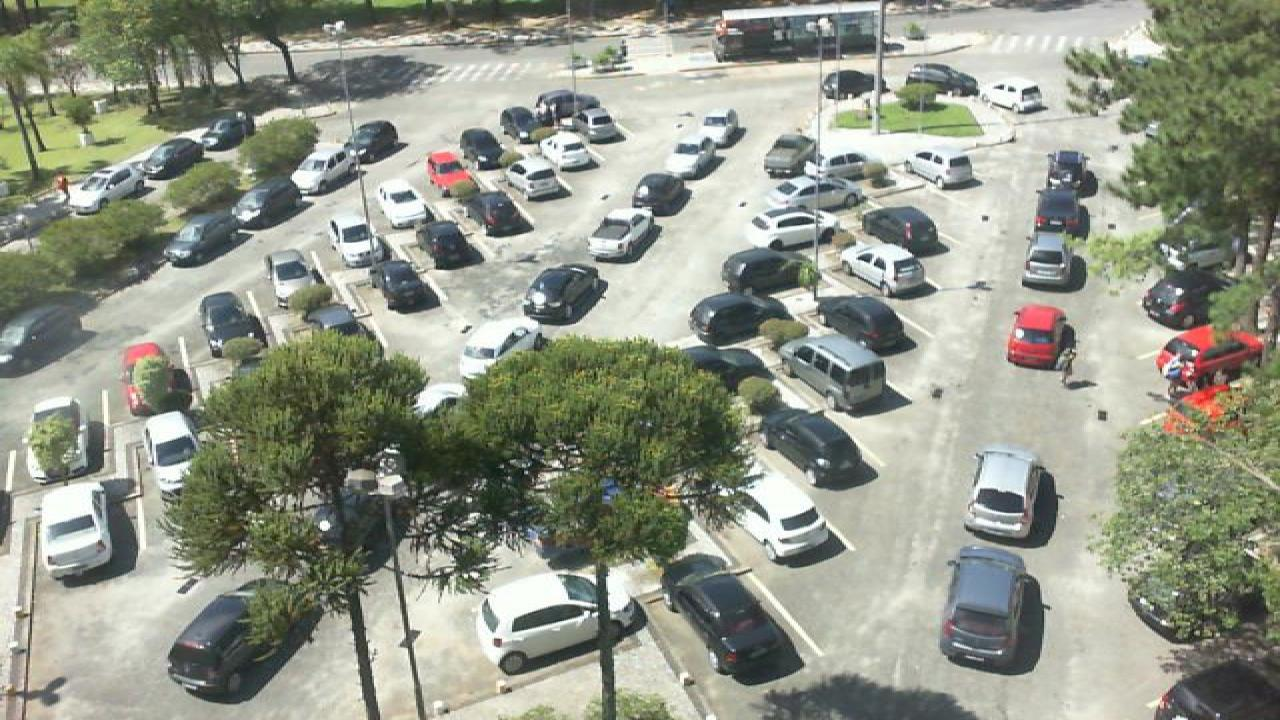Car: (476, 567, 646, 675), (662, 552, 802, 683), (166, 581, 306, 703), (936, 547, 1046, 674), (728, 464, 842, 564), (34, 479, 134, 583), (964, 443, 1056, 546), (1154, 324, 1272, 397), (760, 411, 872, 486), (782, 333, 892, 409), (140, 410, 208, 505), (22, 397, 88, 486), (0, 303, 78, 377), (820, 294, 912, 352), (524, 263, 610, 324), (690, 292, 786, 344), (460, 320, 546, 378), (838, 243, 930, 296), (1140, 271, 1224, 329), (722, 245, 814, 296), (1004, 304, 1074, 369), (122, 342, 182, 417), (860, 205, 950, 253), (748, 206, 842, 251), (198, 292, 264, 356), (68, 163, 146, 216), (1018, 230, 1088, 288), (164, 214, 236, 269), (368, 261, 442, 314), (288, 143, 360, 196), (230, 176, 300, 229), (588, 210, 660, 261), (418, 217, 484, 270), (680, 344, 772, 379), (264, 249, 318, 307), (506, 154, 570, 202), (906, 146, 976, 189), (776, 176, 864, 210), (328, 218, 388, 267), (472, 189, 534, 236), (138, 137, 204, 180), (630, 172, 692, 217), (1034, 188, 1092, 236), (762, 132, 822, 178), (1040, 150, 1098, 196), (302, 304, 368, 344), (424, 150, 480, 196), (816, 151, 896, 183), (376, 184, 434, 228), (540, 130, 602, 170), (198, 110, 256, 152), (346, 120, 400, 164), (904, 62, 978, 94), (458, 126, 508, 171), (660, 139, 716, 179), (982, 81, 1048, 114), (820, 68, 884, 102), (534, 88, 602, 117), (694, 108, 744, 147), (572, 108, 624, 144), (496, 106, 550, 140)
